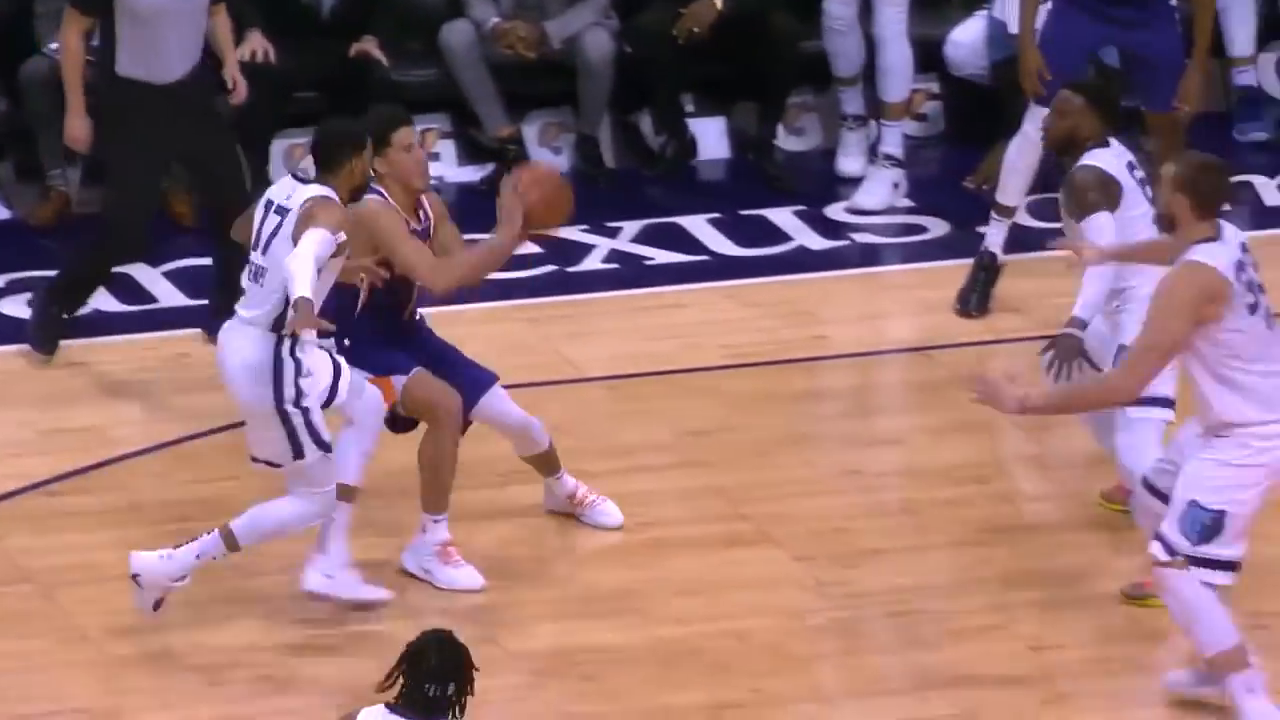ball: (508, 157, 578, 236)
